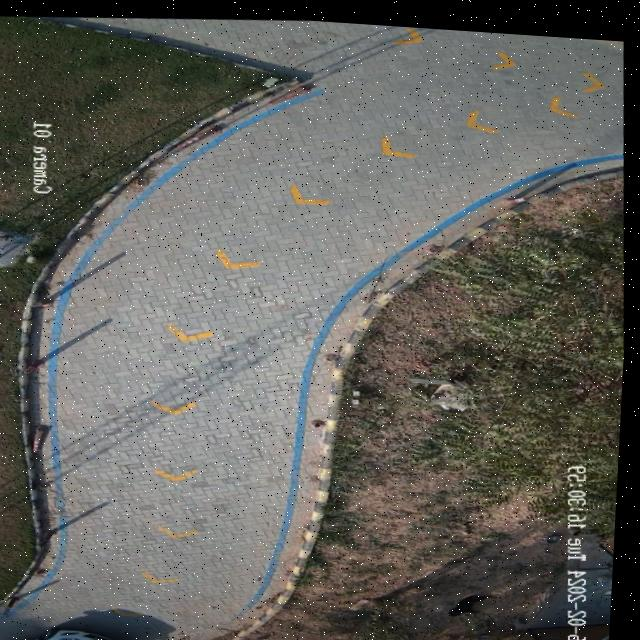car: (40, 628, 125, 640)
